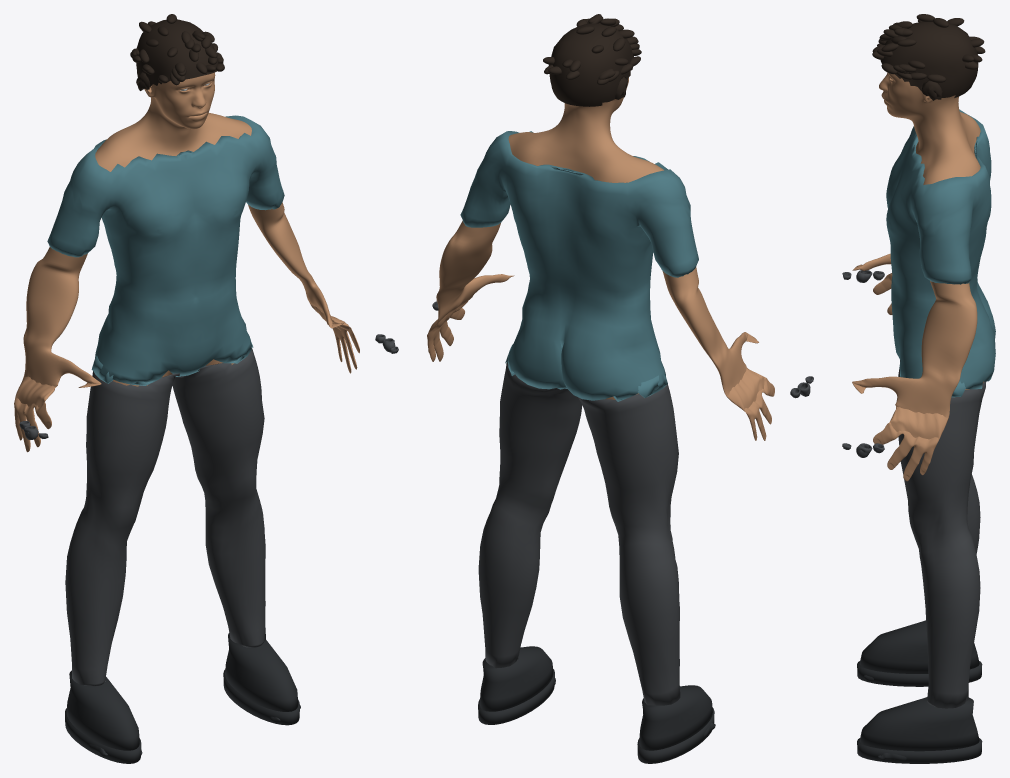
The picture shows the model from 3 angles, left to right: view 1: azimuth 30°, elevation 25°; view 2: azimuth 150°, elevation 25°; view 3: azimuth 270°, elevation 25°; orthographic projection.
Visible parts, largest first — view 1: Fitted teal short sleeve T-shirt, Charcoal trousers, gen3d_mpfb_body, Rounded sneaker upper.001, Rounded sneaker upper, Short dark hair cap, Sneaker rubber sole.001, Sneaker rubber sole; view 2: Fitted teal short sleeve T-shirt, Charcoal trousers, gen3d_mpfb_body, Short dark hair cap, Rounded sneaker upper.001, Rounded sneaker upper, Sneaker rubber sole.001, Sneaker rubber sole; view 3: Fitted teal short sleeve T-shirt, Charcoal trousers, gen3d_mpfb_body, Rounded sneaker upper.001, Short dark hair cap, Rounded sneaker upper, Sneaker rubber sole.001, Sneaker rubber sole.
Boxes of the visible parts, x1,y1,x2,y2 form: Fitted teal short sleeve T-shirt: (47,115,284,385); Charcoal trousers: (19,334,398,686); gen3d_mpfb_body: (14,72,359,756); Rounded sneaker upper.001: (225,633,298,711); Rounded sneaker upper: (66,670,139,750); Short dark hair cap: (136,19,218,90); Sneaker rubber sole.001: (223,669,299,725); Sneaker rubber sole: (65,708,141,763); Fitted teal short sleeve T-shirt: (460,131,698,401); Charcoal trousers: (432,300,813,705); gen3d_mpfb_body: (427,77,774,736); Short dark hair cap: (549,23,633,106); Rounded sneaker upper.001: (479,646,553,711); Rounded sneaker upper: (639,685,712,750); Sneaker rubber sole.001: (478,669,554,724); Sneaker rubber sole: (637,708,714,763); Fitted teal short sleeve T-shirt: (886,109,995,397); Charcoal trousers: (842,270,985,708); gen3d_mpfb_body: (852,72,983,760); Rounded sneaker upper.001: (859,697,979,751); Short dark hair cap: (880,21,978,100); Rounded sneaker upper: (859,620,979,673); Sneaker rubber sole.001: (857,738,982,763); Sneaker rubber sole: (857,661,982,686).
Bounding box in the file's own units: 1.02 × 1.85 × 0.3709.
